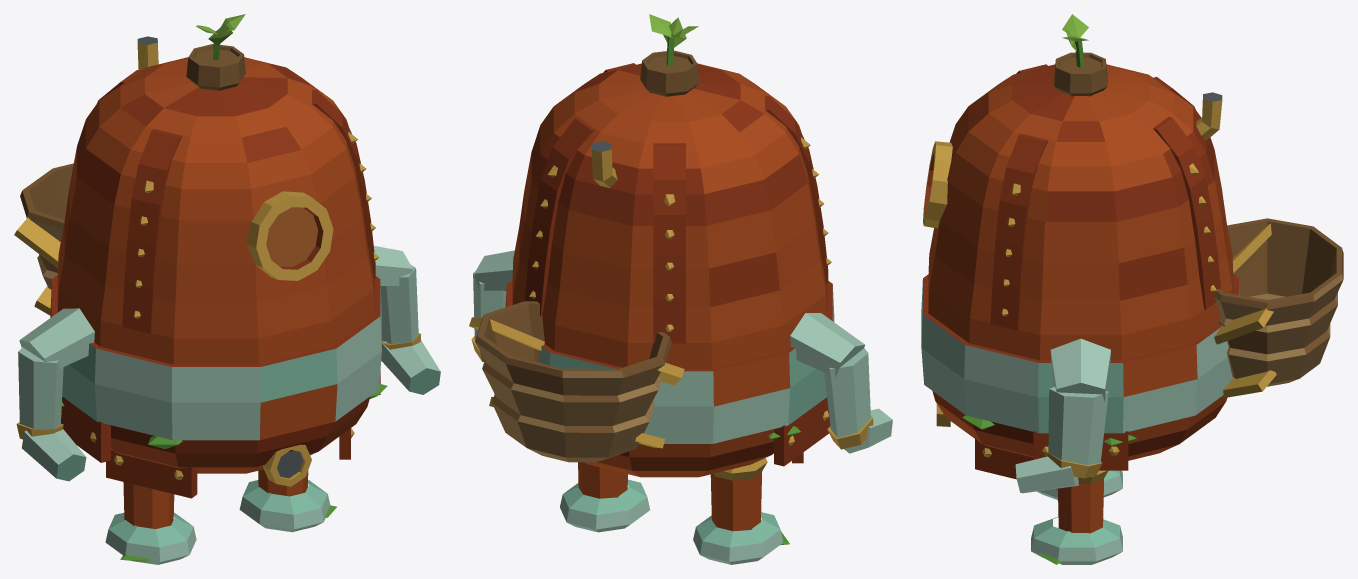
Rendered from companion-bot-170074.glb.
3 renders of one model, left to right at view 1: azimuth 30°, elevation 25°; view 2: azimuth 150°, elevation 25°; view 3: azimuth 270°, elevation 25°, orthographic. The views are drawn at different scales.
Parts seen in each view (by area): view 1: head-mesh, belly, arm-mesh-l, arm-mesh-r, leg-mesh-l, leg-mesh-r, cargo-mesh, rack; view 2: head-mesh, belly, cargo-mesh, arm-mesh-l, leg-mesh-l, leg-mesh-r, arm-mesh-r, rack; view 3: head-mesh, belly, cargo-mesh, arm-mesh-r, leg-mesh-r, rack, leg-mesh-l.
Boxes of the visible parts, bbox=[...] form: head-mesh: bbox=[57, 14, 379, 364]; belly: bbox=[50, 275, 387, 498]; arm-mesh-l: bbox=[16, 308, 94, 481]; arm-mesh-r: bbox=[373, 246, 440, 394]; leg-mesh-l: bbox=[105, 482, 196, 564]; leg-mesh-r: bbox=[239, 469, 336, 532]; cargo-mesh: bbox=[20, 163, 73, 289]; rack: bbox=[14, 217, 60, 315]; head-mesh: bbox=[512, 14, 831, 368]; belly: bbox=[505, 280, 834, 477]; cargo-mesh: bbox=[475, 301, 671, 462]; arm-mesh-l: bbox=[790, 313, 892, 453]; leg-mesh-l: bbox=[693, 458, 789, 564]; leg-mesh-r: bbox=[560, 462, 650, 532]; arm-mesh-r: bbox=[471, 250, 514, 361]; rack: bbox=[469, 317, 684, 448]; head-mesh: bbox=[923, 14, 1233, 360]; belly: bbox=[921, 274, 1239, 489]; cargo-mesh: bbox=[1215, 218, 1343, 386]; arm-mesh-r: bbox=[1015, 338, 1110, 493]; leg-mesh-r: bbox=[1031, 470, 1122, 564]; rack: bbox=[1214, 223, 1276, 398]; leg-mesh-l: bbox=[1037, 470, 1122, 499].
Bounding box in the file's own units: 0.94 × 1.18 × 0.9051.
